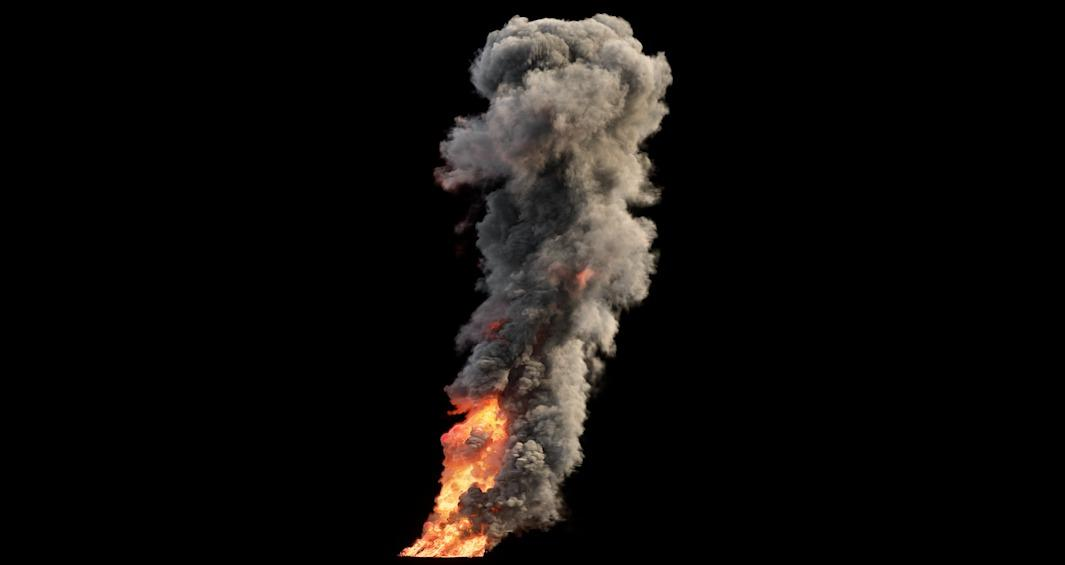fire: (412, 408, 498, 559)
